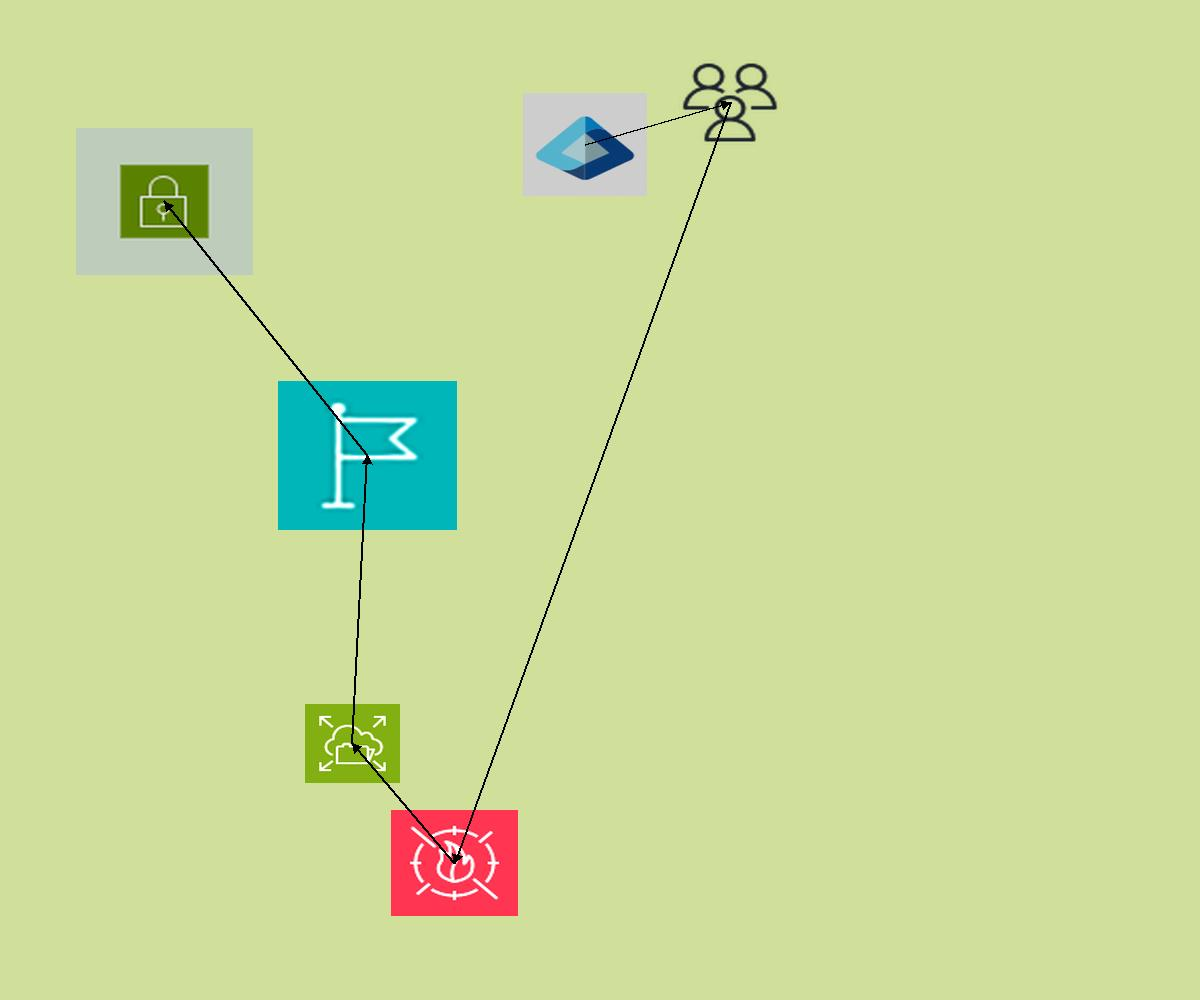AWS-EFS: (305, 704, 400, 783)
AWS-Public-subnet: (76, 128, 253, 275)
AWS-Region: (278, 381, 457, 530)
AWS-Res_Users: (679, 60, 781, 145)
AWS-WAF: (391, 810, 518, 916)
Azure_microsoft_entra: (523, 93, 647, 196)
